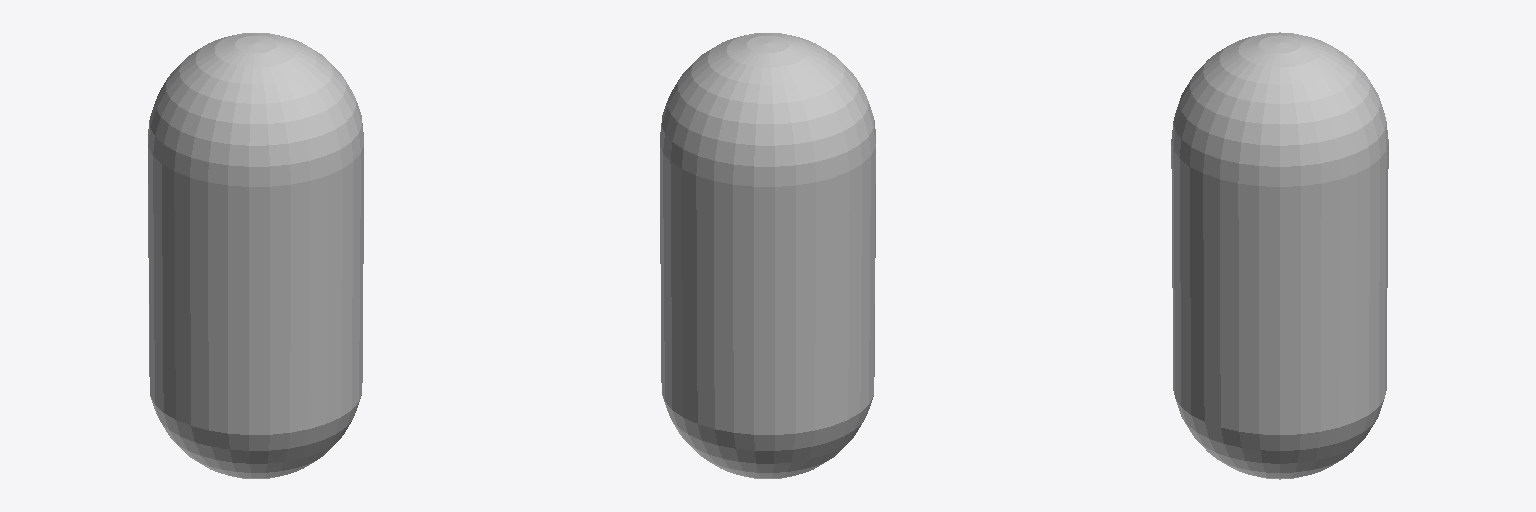
The model's file is playerTwo.obj.
3 views of the same model, side by side, from view 1: azimuth 30°, elevation 25°; view 2: azimuth 150°, elevation 25°; view 3: azimuth 270°, elevation 25° (orthographic).
Visible parts, largest first — view 1: Sphere; view 2: Sphere; view 3: Sphere.
Part boxes in pixels (left/top/right/bottom): Sphere: left=148, top=33, right=363, bottom=478; Sphere: left=660, top=33, right=875, bottom=478; Sphere: left=1171, top=32, right=1388, bottom=479.
Size of the model in its own units: 1 by 2.17 by 1.